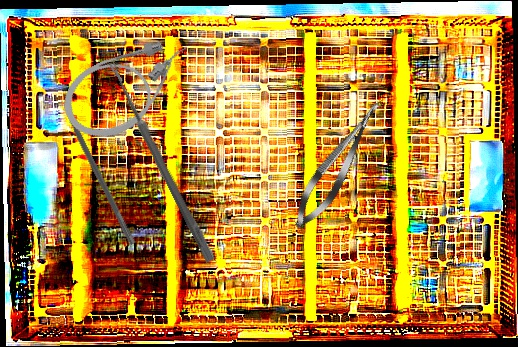Cannula: (52, 25, 208, 151)
Micro Scissor: (284, 91, 394, 236)
Spatula Surgical: (56, 95, 142, 246)
Surgical Spoon: (105, 60, 217, 263)
